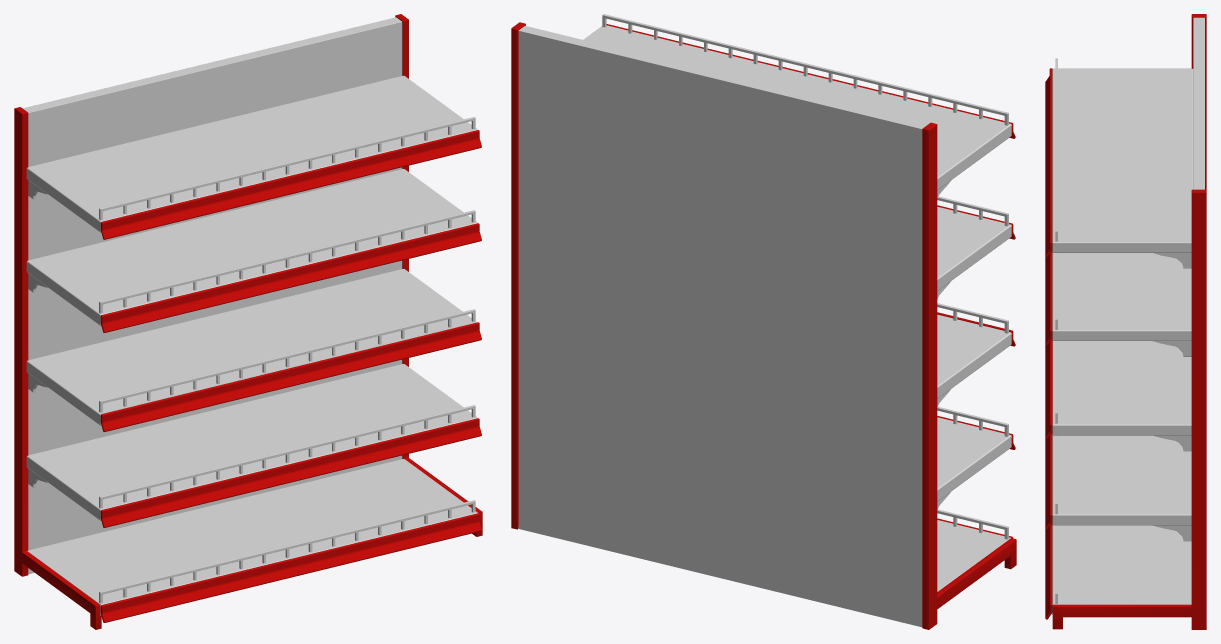
The model's file is Rack1.fbx.
The picture shows the model from 3 angles, left to right: view 1: azimuth 30°, elevation 25°; view 2: azimuth 150°, elevation 25°; view 3: azimuth 270°, elevation 25°; orthographic projection. The views are drawn at different scales.
Parts seen in each view (by area): view 1: Rack 1; view 2: Rack 1; view 3: Rack 1.
Boxes of the visible parts, x1,y1,x2,y2 form: Rack 1: [14, 14, 482, 629]; Rack 1: [511, 14, 1016, 629]; Rack 1: [1045, 14, 1206, 629].
Size of the model in its own units: 370 by 423 by 141.
